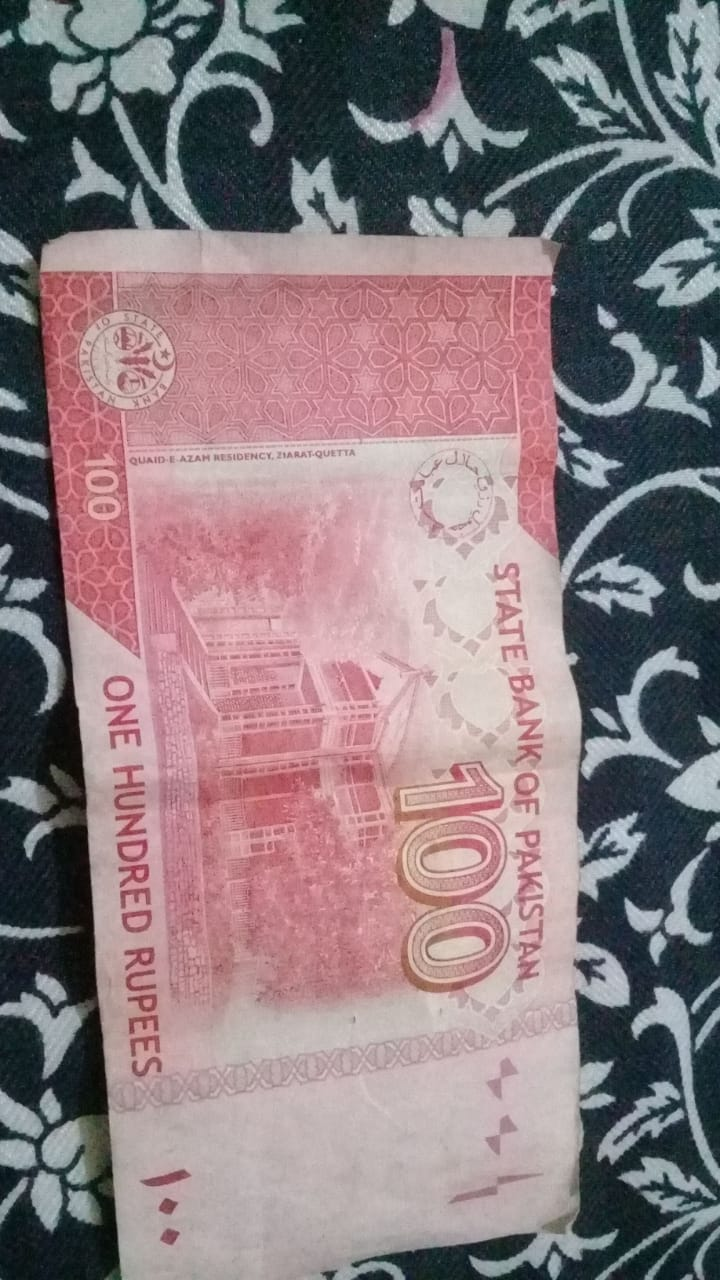100 rupee: (41, 202, 611, 1269)
